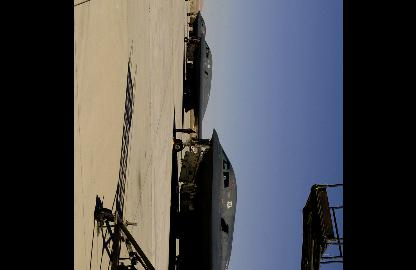B1: (168, 126, 237, 267), (182, 31, 212, 160), (186, 8, 204, 49)
